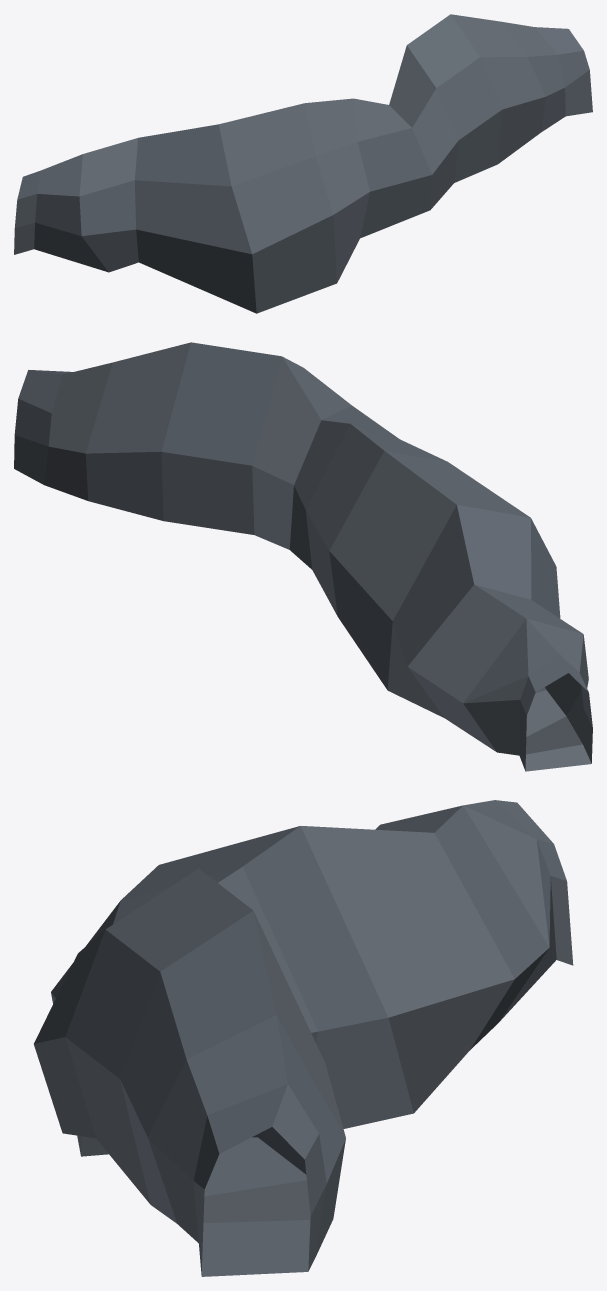
The model's file is Tunnel-A07.fbx.
3 views of the same model, one above another, from view 1: azimuth 30°, elevation 25°; view 2: azimuth 150°, elevation 25°; view 3: azimuth 270°, elevation 25° (orthographic). The views are drawn at different scales.
Parts seen in each view (by area): view 1: Tunnel-A07; view 2: Tunnel-A07; view 3: Tunnel-A07.
Part boxes in pixels (x1,y1,x2,y2): Tunnel-A07: (14, 14, 592, 313); Tunnel-A07: (14, 342, 592, 771); Tunnel-A07: (34, 800, 573, 1276).
Bounding box in the file's own units: 1838 × 851 × 758.
